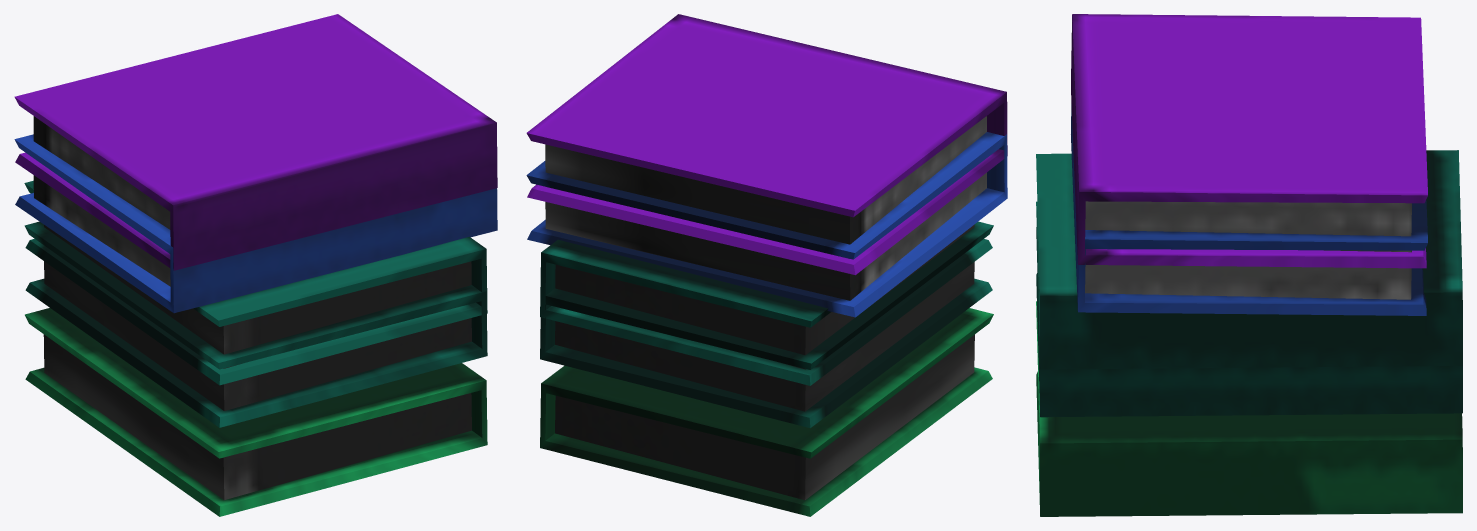
File: Tx_props_medical_book_stack.fbx
The picture shows the model from 3 angles, left to right: view 1: azimuth 30°, elevation 25°; view 2: azimuth 150°, elevation 25°; view 3: azimuth 270°, elevation 25°; orthographic projection. The views are drawn at different scales.
Parts seen in each view (by area): view 1: Tx_props_medical_book_stack; view 2: Tx_props_medical_book_stack; view 3: Tx_props_medical_book_stack.
Part boxes in pixels (left/top/right/bottom): Tx_props_medical_book_stack: left=14, top=14, right=497, bottom=516; Tx_props_medical_book_stack: left=526, top=14, right=1007, bottom=516; Tx_props_medical_book_stack: left=1036, top=14, right=1462, bottom=516.
Size of the model in its own units: 3.09 by 2.76 by 3.09.
